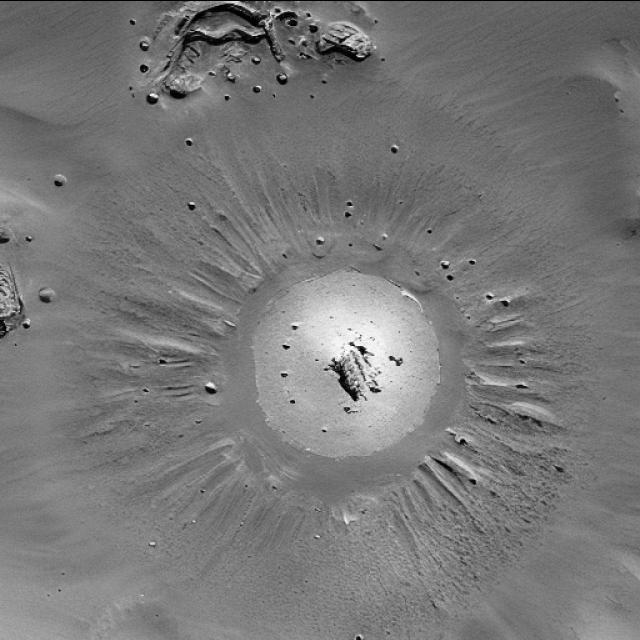crater: (214, 226, 466, 500)
